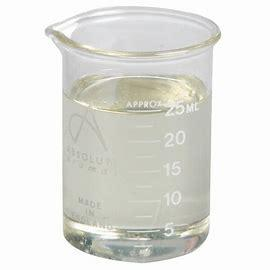Beaker: (40, 12, 220, 265)
